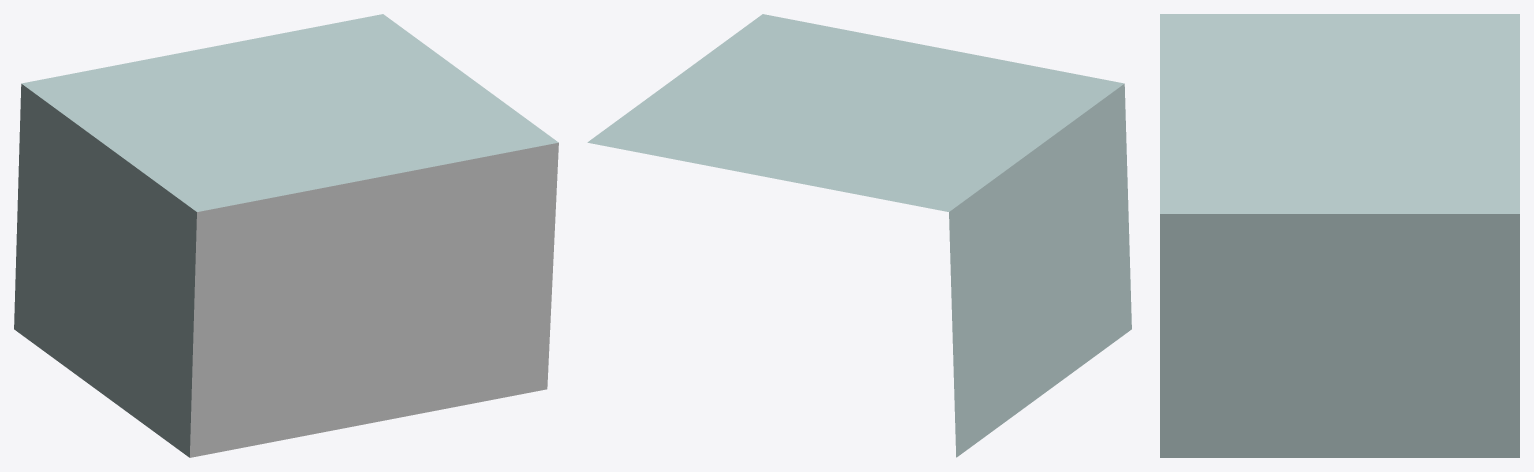
The picture shows the model from 3 angles, left to right: view 1: azimuth 30°, elevation 25°; view 2: azimuth 150°, elevation 25°; view 3: azimuth 270°, elevation 25°; orthographic projection. The views are drawn at different scales.
Visible parts, largest first — view 1: 0_2_2_3_3_3_3_0_0; view 2: 0_2_2_3_3_3_3_0_0; view 3: 0_2_2_3_3_3_3_0_0.
Boxes of the visible parts, <box> form: 0_2_2_3_3_3_3_0_0: <box>14,14,558,457</box>; 0_2_2_3_3_3_3_0_0: <box>587,14,1131,457</box>; 0_2_2_3_3_3_3_0_0: <box>1160,14,1519,457</box>.
Bounding box in the file's own units: 3.64 × 2.47 × 3.
